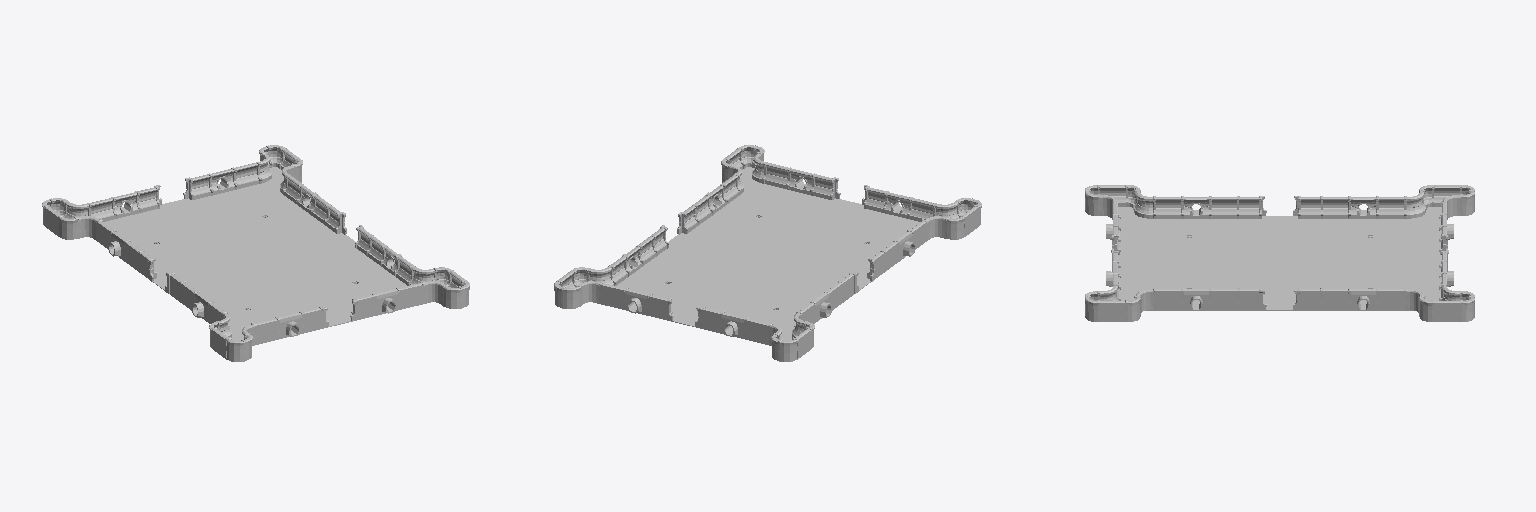
Rendered from DungeonRoom_07.obj.
3 views of the same model, side by side, from view 1: azimuth 30°, elevation 25°; view 2: azimuth 150°, elevation 25°; view 3: azimuth 270°, elevation 25° (orthographic).
Visible parts, largest first — view 1: DungeonRoom_07; view 2: DungeonRoom_07; view 3: DungeonRoom_07.
Boxes of the visible parts, x1=… form: DungeonRoom_07: x1=42, y1=145, x2=469, y2=361; DungeonRoom_07: x1=554, y1=145, x2=981, y2=361; DungeonRoom_07: x1=1085, y1=185, x2=1474, y2=321.
Bounding box in the file's own units: 80.17 × 8.22 × 112.